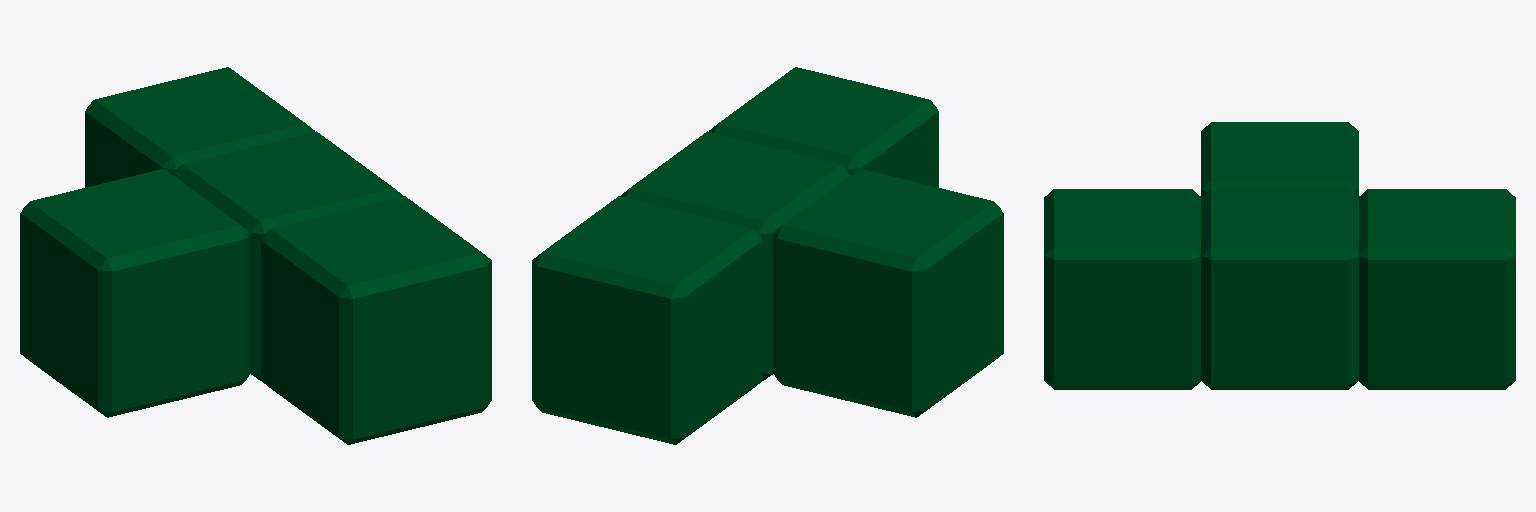
--- Facts derived from the render (not from the file) ---
Views: 3 orthographic renders of the robot side by side, from view 1: azimuth 30°, elevation 25°; view 2: azimuth 150°, elevation 25°; view 3: azimuth 270°, elevation 25°.
Robot: obj_3 — 1 links, 0 joints (none); root link obj_3_link; default pose: every joint at zero.
Links seen in each view (by area): view 1: obj_3_link; view 2: obj_3_link; view 3: obj_3_link.
Link boxes in pixels (x1=…): obj_3_link: x1=20, y1=67, x2=491, y2=444; obj_3_link: x1=532, y1=67, x2=1003, y2=444; obj_3_link: x1=1044, y1=122, x2=1515, y2=389.
Bounding box of the posed robot: 0.25 × 0.375 × 0.125 m (x, y, z).
Meshes: 1 distinct files referenced, 1 mesh visuals loaded (1 OBJ).

The robot description file, URDF, robot "obj_3":
<robot name="obj_3" version="1.0">
  <link name="obj_3_link">
    <collision name="obj_3-collision.001">
      <origin rpy="1.57080 0.00000 -0.00000" xyz="-0.28590 0.38891 0.06436"/>
      <geometry>
        <mesh filename="../meshes/obj/obj_3-collision.001.obj" scale="1.00000 1.00000 1.00000"/>
      </geometry>
    </collision>
    <collision name="obj_3-collision.002">
      <origin rpy="-0.00000 -1.57080 0.00000" xyz="-0.34840 0.45141 0.06436"/>
      <geometry>
        <mesh filename="../meshes/obj/obj_3-collision.002.obj" scale="1.00000 1.00000 1.00000"/>
      </geometry>
    </collision>
    <collision name="obj_3-collision.003">
      <origin rpy="1.57080 0.00000 3.14159" xyz="-0.28590 0.51391 0.06436"/>
      <geometry>
        <mesh filename="../meshes/obj/obj_3-collision.003.obj" scale="1.00000 1.00000 1.00000"/>
      </geometry>
    </collision>
    <collision name="obj_3-collision.004">
      <origin rpy="0.00000 0.00000 1.57080" xyz="-0.28590 0.45141 0.12686"/>
      <geometry>
        <mesh filename="../meshes/obj/obj_3-collision.004.obj" scale="1.00000 1.00000 1.00000"/>
      </geometry>
    </collision>
    <collision name="obj_3-collision.005">
      <origin rpy="-3.14159 0.00000 -1.57080" xyz="-0.28590 0.45141 0.00186"/>
      <geometry>
        <mesh filename="../meshes/obj/obj_3-collision.005.obj" scale="1.00000 1.00000 1.00000"/>
      </geometry>
    </collision>
    <collision name="obj_3-collision.006">
      <origin rpy="2.35619 0.00000 -0.00000" xyz="-0.28590 0.39266 0.00561"/>
      <geometry>
        <mesh filename="../meshes/obj/obj_3-collision.006.obj" scale="1.00000 1.00000 1.00000"/>
      </geometry>
    </collision>
    <collision name="obj_3-collision.007">
      <origin rpy="3.14159 -0.78540 3.14159" xyz="-0.34465 0.45141 0.00561"/>
      <geometry>
        <mesh filename="../meshes/obj/obj_3-collision.007.obj" scale="1.00000 1.00000 1.00000"/>
      </geometry>
    </collision>
    <collision name="obj_3-collision.008">
      <origin rpy="2.35619 -0.00000 3.14159" xyz="-0.28590 0.51016 0.00561"/>
      <geometry>
        <mesh filename="../meshes/obj/obj_3-collision.008.obj" scale="1.00000 1.00000 1.00000"/>
      </geometry>
    </collision>
    <collision name="obj_3-collision.009">
      <origin rpy="1.57080 0.00000 -2.35619" xyz="-0.34465 0.51016 0.06436"/>
      <geometry>
        <mesh filename="../meshes/obj/obj_3-collision.009.obj" scale="1.00000 1.00000 1.00000"/>
      </geometry>
    </collision>
    <collision name="obj_3-collision.010">
      <origin rpy="1.57080 -0.00000 -0.78540" xyz="-0.34465 0.39266 0.06436"/>
      <geometry>
        <mesh filename="../meshes/obj/obj_3-collision.010.obj" scale="1.00000 1.00000 1.00000"/>
      </geometry>
    </collision>
    <collision name="obj_3-collision.011">
      <origin rpy="1.57080 0.00000 0.78540" xyz="-0.22715 0.39266 0.06436"/>
      <geometry>
        <mesh filename="../meshes/obj/obj_3-collision.011.obj" scale="1.00000 1.00000 1.00000"/>
      </geometry>
    </collision>
    <collision name="obj_3-collision.012">
      <origin rpy="1.57080 -0.00000 2.35619" xyz="-0.22715 0.51016 0.06436"/>
      <geometry>
        <mesh filename="../meshes/obj/obj_3-collision.012.obj" scale="1.00000 1.00000 1.00000"/>
      </geometry>
    </collision>
    <collision name="obj_3-collision.013">
      <origin rpy="0.78540 -0.00000 3.14159" xyz="-0.28590 0.51016 0.12311"/>
      <geometry>
        <mesh filename="../meshes/obj/obj_3-collision.013.obj" scale="1.00000 1.00000 1.00000"/>
      </geometry>
    </collision>
    <collision name="obj_3-collision.014">
      <origin rpy="-0.00000 -0.78540 -0.00000" xyz="-0.34465 0.45141 0.12311"/>
      <geometry>
        <mesh filename="../meshes/obj/obj_3-collision.014.obj" scale="1.00000 1.00000 1.00000"/>
      </geometry>
    </collision>
    <collision name="obj_3-collision.015">
      <origin rpy="0.78540 -0.00000 -0.00000" xyz="-0.28590 0.39266 0.12311"/>
      <geometry>
        <mesh filename="../meshes/obj/obj_3-collision.015.obj" scale="1.00000 1.00000 1.00000"/>
      </geometry>
    </collision>
    <collision name="obj_3-collision.016">
      <origin rpy="-0.00000 -0.78540 3.14159" xyz="-0.22715 0.45141 0.12311"/>
      <geometry>
        <mesh filename="../meshes/obj/obj_3-collision.016.obj" scale="1.00000 1.00000 1.00000"/>
      </geometry>
    </collision>
    <collision name="obj_3-collision.017">
      <origin rpy="-3.14159 -0.78540 -0.00000" xyz="-0.22715 0.45141 0.00561"/>
      <geometry>
        <mesh filename="../meshes/obj/obj_3-collision.017.obj" scale="1.00000 1.00000 1.00000"/>
      </geometry>
    </collision>
    <collision name="obj_3-collision.018">
      <origin rpy="-0.00000 -1.57080 0.00000" xyz="-0.22340 0.32641 0.06436"/>
      <geometry>
        <mesh filename="../meshes/obj/obj_3-collision.018.obj" scale="1.00000 1.00000 1.00000"/>
      </geometry>
    </collision>
    <collision name="obj_3-collision.019">
      <origin rpy="1.57080 0.00000 -2.35619" xyz="-0.21965 0.38516 0.06436"/>
      <geometry>
        <mesh filename="../meshes/obj/obj_3-collision.019.obj" scale="1.00000 1.00000 1.00000"/>
      </geometry>
    </collision>
    <collision name="obj_3-collision.020">
      <origin rpy="1.57080 -0.00000 -0.78540" xyz="-0.21965 0.26766 0.06436"/>
      <geometry>
        <mesh filename="../meshes/obj/obj_3-collision.020.obj" scale="1.00000 1.00000 1.00000"/>
      </geometry>
    </collision>
    <collision name="obj_3-collision.021">
      <origin rpy="3.14159 -0.78540 3.14159" xyz="-0.21965 0.32641 0.00561"/>
      <geometry>
        <mesh filename="../meshes/obj/obj_3-collision.021.obj" scale="1.00000 1.00000 1.00000"/>
      </geometry>
    </collision>
    <collision name="obj_3-collision.022">
      <origin rpy="-0.00000 -0.78540 -0.00000" xyz="-0.21965 0.32641 0.12311"/>
      <geometry>
        <mesh filename="../meshes/obj/obj_3-collision.022.obj" scale="1.00000 1.00000 1.00000"/>
      </geometry>
    </collision>
    <collision name="obj_3-collision.023">
      <origin rpy="0.78540 -0.00000 -0.00000" xyz="-0.16090 0.26766 0.12311"/>
      <geometry>
        <mesh filename="../meshes/obj/obj_3-collision.023.obj" scale="1.00000 1.00000 1.00000"/>
      </geometry>
    </collision>
    <collision name="obj_3-collision.024">
      <origin rpy="1.57080 -1.57080 0.00000" xyz="-0.16090 0.26391 0.06436"/>
      <geometry>
        <mesh filename="../meshes/obj/obj_3-collision.024.obj" scale="1.00000 1.00000 1.00000"/>
      </geometry>
    </collision>
    <collision name="obj_3-collision.025">
      <origin rpy="2.35619 0.00000 -0.00000" xyz="-0.16090 0.26766 0.00561"/>
      <geometry>
        <mesh filename="../meshes/obj/obj_3-collision.025.obj" scale="1.00000 1.00000 1.00000"/>
      </geometry>
    </collision>
    <collision name="obj_3-collision.026">
      <origin rpy="-1.57080 0.00000 -2.35619" xyz="-0.10215 0.26766 0.06436"/>
      <geometry>
        <mesh filename="../meshes/obj/obj_3-collision.026.obj" scale="1.00000 1.00000 1.00000"/>
      </geometry>
    </collision>
    <collision name="obj_3-collision.027">
      <origin rpy="-0.00000 -0.78540 3.14159" xyz="-0.10215 0.32641 0.12311"/>
      <geometry>
        <mesh filename="../meshes/obj/obj_3-collision.027.obj" scale="1.00000 1.00000 1.00000"/>
      </geometry>
    </collision>
    <collision name="obj_3-collision.028">
      <origin rpy="1.57080 0.00000 1.57080" xyz="-0.09840 0.32641 0.06436"/>
      <geometry>
        <mesh filename="../meshes/obj/obj_3-collision.028.obj" scale="1.00000 1.00000 1.00000"/>
      </geometry>
    </collision>
    <collision name="obj_3-collision.029">
      <origin rpy="-3.14159 -0.78540 -0.00000" xyz="-0.10215 0.32641 0.00561"/>
      <geometry>
        <mesh filename="../meshes/obj/obj_3-collision.029.obj" scale="1.00000 1.00000 1.00000"/>
      </geometry>
    </collision>
    <collision name="obj_3-collision.030">
      <origin rpy="-3.14159 0.00000 -1.57080" xyz="-0.16090 0.32641 0.00186"/>
      <geometry>
        <mesh filename="../meshes/obj/obj_3-collision.030.obj" scale="1.00000 1.00000 1.00000"/>
      </geometry>
    </collision>
    <collision name="obj_3-collision.031">
      <origin rpy="2.35619 -0.00000 3.14159" xyz="-0.16090 0.38516 0.00561"/>
      <geometry>
        <mesh filename="../meshes/obj/obj_3-collision.031.obj" scale="1.00000 1.00000 1.00000"/>
      </geometry>
    </collision>
    <collision name="obj_3-collision.032">
      <origin rpy="0.00000 0.00000 1.57080" xyz="-0.16090 0.32641 0.12686"/>
      <geometry>
        <mesh filename="../meshes/obj/obj_3-collision.032.obj" scale="1.00000 1.00000 1.00000"/>
      </geometry>
    </collision>
    <collision name="obj_3-collision.033">
      <origin rpy="0.78540 -0.00000 3.14159" xyz="-0.16090 0.38516 0.12311"/>
      <geometry>
        <mesh filename="../meshes/obj/obj_3-collision.033.obj" scale="1.00000 1.00000 1.00000"/>
      </geometry>
    </collision>
    <collision name="obj_3-collision.034">
      <origin rpy="-0.00000 -0.78540 -0.00000" xyz="-0.21965 0.45141 0.12311"/>
      <geometry>
        <mesh filename="../meshes/obj/obj_3-collision.034.obj" scale="1.00000 1.00000 1.00000"/>
      </geometry>
    </collision>
    <collision name="obj_3-collision.035">
      <origin rpy="0.78540 -0.00000 -0.00000" xyz="-0.16090 0.39266 0.12311"/>
      <geometry>
        <mesh filename="../meshes/obj/obj_3-collision.035.obj" scale="1.00000 1.00000 1.00000"/>
      </geometry>
    </collision>
    <collision name="obj_3-collision.036">
      <origin rpy="2.35619 1.57080 0.00000" xyz="-0.21965 0.39266 0.06436"/>
      <geometry>
        <mesh filename="../meshes/obj/obj_3-collision.036.obj" scale="1.00000 1.00000 1.00000"/>
      </geometry>
    </collision>
    <collision name="obj_3-collision.037">
      <origin rpy="0.00000 0.00000 -1.57080" xyz="-0.16090 0.45141 0.12686"/>
      <geometry>
        <mesh filename="../meshes/obj/obj_3-collision.037.obj" scale="1.00000 1.00000 1.00000"/>
      </geometry>
    </collision>
    <collision name="obj_3-collision.038">
      <origin rpy="-0.00000 -0.78540 3.14159" xyz="-0.10215 0.45141 0.12311"/>
      <geometry>
        <mesh filename="../meshes/obj/obj_3-collision.038.obj" scale="1.00000 1.00000 1.00000"/>
      </geometry>
    </collision>
    <collision name="obj_3-collision.039">
      <origin rpy="0.78540 -0.00000 3.14159" xyz="-0.16090 0.51016 0.12311"/>
      <geometry>
        <mesh filename="../meshes/obj/obj_3-collision.039.obj" scale="1.00000 1.00000 1.00000"/>
      </geometry>
    </collision>
    <collision name="obj_3-collision.040">
      <origin rpy="1.57080 0.00000 -2.35619" xyz="-0.21965 0.51016 0.06436"/>
      <geometry>
        <mesh filename="../meshes/obj/obj_3-collision.040.obj" scale="1.00000 1.00000 1.00000"/>
      </geometry>
    </collision>
    <collision name="obj_3-collision.041">
      <origin rpy="3.14159 -1.57080 0.00000" xyz="-0.09840 0.45141 0.06436"/>
      <geometry>
        <mesh filename="../meshes/obj/obj_3-collision.041.obj" scale="1.00000 1.00000 1.00000"/>
      </geometry>
    </collision>
    <collision name="obj_3-collision.042">
      <origin rpy="1.57080 0.00000 0.78540" xyz="-0.10215 0.39266 0.06436"/>
      <geometry>
        <mesh filename="../meshes/obj/obj_3-collision.042.obj" scale="1.00000 1.00000 1.00000"/>
      </geometry>
    </collision>
    <collision name="obj_3-collision.043">
      <origin rpy="-1.57080 -0.00000 -0.78540" xyz="-0.10215 0.51016 0.06436"/>
      <geometry>
        <mesh filename="../meshes/obj/obj_3-collision.043.obj" scale="1.00000 1.00000 1.00000"/>
      </geometry>
    </collision>
    <collision name="obj_3-collision.044">
      <origin rpy="-3.14159 -0.78540 -0.00000" xyz="-0.10215 0.45141 0.00561"/>
      <geometry>
        <mesh filename="../meshes/obj/obj_3-collision.044.obj" scale="1.00000 1.00000 1.00000"/>
      </geometry>
    </collision>
    <collision name="obj_3-collision.045">
      <origin rpy="-3.14159 0.00000 -1.57080" xyz="-0.16090 0.45141 0.00186"/>
      <geometry>
        <mesh filename="../meshes/obj/obj_3-collision.045.obj" scale="1.00000 1.00000 1.00000"/>
      </geometry>
    </collision>
    <collision name="obj_3-collision.046">
      <origin rpy="-3.14159 0.78540 1.57080" xyz="-0.16090 0.39266 0.00561"/>
      <geometry>
        <mesh filename="../meshes/obj/obj_3-collision.046.obj" scale="1.00000 1.00000 1.00000"/>
      </geometry>
    </collision>
    <collision name="obj_3-collision.047">
      <origin rpy="2.35619 -0.00000 3.14159" xyz="-0.16090 0.51016 0.00561"/>
      <geometry>
        <mesh filename="../meshes/obj/obj_3-collision.047.obj" scale="1.00000 1.00000 1.00000"/>
      </geometry>
    </collision>
    <collision name="obj_3-collision.048">
      <origin rpy="3.14159 -0.78540 3.14159" xyz="-0.21965 0.45141 0.00561"/>
      <geometry>
        <mesh filename="../meshes/obj/obj_3-collision.048.obj" scale="1.00000 1.00000 1.00000"/>
      </geometry>
    </collision>
    <collision name="obj_3-collision.049">
      <origin rpy="1.57080 -0.00000 2.35619" xyz="-0.10215 0.38516 0.06436"/>
      <geometry>
        <mesh filename="../meshes/obj/obj_3-collision.049.obj" scale="1.00000 1.00000 1.00000"/>
      </geometry>
    </collision>
    <collision name="obj_3-collision.050">
      <origin rpy="0.00000 0.00000 1.57080" xyz="-0.16090 0.57641 0.12686"/>
      <geometry>
        <mesh filename="../meshes/obj/obj_3-collision.050.obj" scale="1.00000 1.00000 1.00000"/>
      </geometry>
    </collision>
    <collision name="obj_3-collision.051">
      <origin rpy="0.78540 -0.00000 -0.00000" xyz="-0.16090 0.51766 0.12311"/>
      <geometry>
        <mesh filename="../meshes/obj/obj_3-collision.051.obj" scale="1.00000 1.00000 1.00000"/>
      </geometry>
    </collision>
    <collision name="obj_3-collision.052">
      <origin rpy="-0.00000 -0.78540 3.14159" xyz="-0.10215 0.57641 0.12311"/>
      <geometry>
        <mesh filename="../meshes/obj/obj_3-collision.052.obj" scale="1.00000 1.00000 1.00000"/>
      </geometry>
    </collision>
    <collision name="obj_3-collision.053">
      <origin rpy="0.78540 -0.00000 3.14159" xyz="-0.16090 0.63516 0.12311"/>
      <geometry>
        <mesh filename="../meshes/obj/obj_3-collision.053.obj" scale="1.00000 1.00000 1.00000"/>
      </geometry>
    </collision>
    <collision name="obj_3-collision.054">
      <origin rpy="-0.00000 -0.78540 -0.00000" xyz="-0.21965 0.57641 0.12311"/>
      <geometry>
        <mesh filename="../meshes/obj/obj_3-collision.054.obj" scale="1.00000 1.00000 1.00000"/>
      </geometry>
    </collision>
    <collision name="obj_3-collision.055">
      <origin rpy="-0.00000 -1.57080 0.00000" xyz="-0.22340 0.57641 0.06436"/>
      <geometry>
        <mesh filename="../meshes/obj/obj_3-collision.055.obj" scale="1.00000 1.00000 1.00000"/>
      </geometry>
    </collision>
    <collision name="obj_3-collision.056">
      <origin rpy="1.57080 -0.00000 -0.78540" xyz="-0.21965 0.51766 0.06436"/>
      <geometry>
        <mesh filename="../meshes/obj/obj_3-collision.056.obj" scale="1.00000 1.00000 1.00000"/>
      </geometry>
    </collision>
    <collision name="obj_3-collision.057">
      <origin rpy="1.57080 0.00000 -2.35619" xyz="-0.21965 0.63516 0.06436"/>
      <geometry>
        <mesh filename="../meshes/obj/obj_3-collision.057.obj" scale="1.00000 1.00000 1.00000"/>
      </geometry>
    </collision>
    <collision name="obj_3-collision.058">
      <origin rpy="1.57080 0.00000 3.14159" xyz="-0.16090 0.63891 0.06436"/>
      <geometry>
        <mesh filename="../meshes/obj/obj_3-collision.058.obj" scale="1.00000 1.00000 1.00000"/>
      </geometry>
    </collision>
    <collision name="obj_3-collision.059">
      <origin rpy="1.57080 -0.00000 2.35619" xyz="-0.10215 0.63516 0.06436"/>
      <geometry>
        <mesh filename="../meshes/obj/obj_3-collision.059.obj" scale="1.00000 1.00000 1.00000"/>
      </geometry>
    </collision>
    <collision name="obj_3-collision.060">
      <origin rpy="3.14159 -1.57080 0.00000" xyz="-0.09840 0.57641 0.06436"/>
      <geometry>
        <mesh filename="../meshes/obj/obj_3-collision.060.obj" scale="1.00000 1.00000 1.00000"/>
      </geometry>
    </collision>
    <collision name="obj_3-collision.061">
      <origin rpy="0.78540 1.57080 0.00000" xyz="-0.10215 0.51766 0.06436"/>
      <geometry>
        <mesh filename="../meshes/obj/obj_3-collision.061.obj" scale="1.00000 1.00000 1.00000"/>
      </geometry>
    </collision>
    <collision name="obj_3-collision.062">
      <origin rpy="-3.14159 -0.78540 -0.00000" xyz="-0.10215 0.57641 0.00561"/>
      <geometry>
        <mesh filename="../meshes/obj/obj_3-collision.062.obj" scale="1.00000 1.00000 1.00000"/>
      </geometry>
    </collision>
    <collision name="obj_3-collision.063">
      <origin rpy="2.35619 0.00000 -0.00000" xyz="-0.16090 0.51766 0.00561"/>
      <geometry>
        <mesh filename="../meshes/obj/obj_3-collision.063.obj" scale="1.00000 1.00000 1.00000"/>
      </geometry>
    </collision>
    <collision name="obj_3-collision.064">
      <origin rpy="3.14159 -0.78540 3.14159" xyz="-0.21965 0.57641 0.00561"/>
      <geometry>
        <mesh filename="../meshes/obj/obj_3-collision.064.obj" scale="1.00000 1.00000 1.00000"/>
      </geometry>
    </collision>
    <collision name="obj_3-collision.065">
      <origin rpy="2.35619 -0.00000 3.14159" xyz="-0.16090 0.63516 0.00561"/>
      <geometry>
        <mesh filename="../meshes/obj/obj_3-collision.065.obj" scale="1.00000 1.00000 1.00000"/>
      </geometry>
    </collision>
    <collision name="obj_3-collision.066">
      <origin rpy="-3.14159 0.00000 -1.57080" xyz="-0.16090 0.57641 0.00186"/>
      <geometry>
        <mesh filename="../meshes/obj/obj_3-collision.066.obj" scale="1.00000 1.00000 1.00000"/>
      </geometry>
    </collision>
    <collision name="obj_3-collision.067">
      <origin rpy="0.00000 0.00000 1.57080" xyz="-0.19364 0.45141 0.06436"/>
      <geometry>
        <mesh filename="../meshes/obj/obj_3-collision.067.obj" scale="0.00500 0.00500 0.00500"/>
      </geometry>
    </collision>
    <collision name="obj_3-collision.068">
      <origin rpy="0.00000 0.00000 1.57080" xyz="-0.19364 0.45141 0.06436"/>
      <geometry>
        <mesh filename="../meshes/obj/obj_3-collision.068.obj" scale="0.00500 0.00500 0.00500"/>
      </geometry>
    </collision>
    <collision name="obj_3-collision.069">
      <origin rpy="0.00000 0.00000 1.57080" xyz="-0.19364 0.45141 0.06436"/>
      <geometry>
        <mesh filename="../meshes/obj/obj_3-collision.069.obj" scale="0.00500 0.00500 0.00500"/>
      </geometry>
    </collision>
    <collision name="obj_3-collision.070">
      <origin rpy="0.00000 0.00000 1.57080" xyz="-0.19364 0.45141 0.06436"/>
      <geometry>
        <mesh filename="../meshes/obj/obj_3-collision.070.obj" scale="0.00500 0.00500 0.00500"/>
      </geometry>
    </collision>
    <collision name="obj_3-collision.071">
      <origin rpy="0.00000 0.00000 1.57080" xyz="-0.19364 0.45141 0.06436"/>
      <geometry>
        <mesh filename="../meshes/obj/obj_3-collision.071.obj" scale="0.00500 0.00500 0.00500"/>
      </geometry>
    </collision>
    <collision name="obj_3-collision.072">
      <origin rpy="0.00000 0.00000 1.57080" xyz="-0.19364 0.45141 0.06436"/>
      <geometry>
        <mesh filename="../meshes/obj/obj_3-collision.072.obj" scale="0.00500 0.00500 0.00500"/>
      </geometry>
    </collision>
    <collision name="obj_3-collision.073">
      <origin rpy="0.00000 0.00000 1.57080" xyz="-0.19364 0.45141 0.06436"/>
      <geometry>
        <mesh filename="../meshes/obj/obj_3-collision.073.obj" scale="0.00500 0.00500 0.00500"/>
      </geometry>
    </collision>
    <collision name="obj_3-collision.074">
      <origin rpy="0.00000 0.00000 1.57080" xyz="-0.19364 0.45141 0.06436"/>
      <geometry>
        <mesh filename="../meshes/obj/obj_3-collision.074.obj" scale="0.00500 0.00500 0.00500"/>
      </geometry>
    </collision>
    <collision name="obj_3-collision.075">
      <origin rpy="0.00000 0.00000 1.57080" xyz="-0.19364 0.45141 0.06436"/>
      <geometry>
        <mesh filename="../meshes/obj/obj_3-collision.075.obj" scale="0.00500 0.00500 0.00500"/>
      </geometry>
    </collision>
    <collision name="obj_3-collision.076">
      <origin rpy="0.00000 0.00000 1.57080" xyz="-0.19364 0.45141 0.06436"/>
      <geometry>
        <mesh filename="../meshes/obj/obj_3-collision.076.obj" scale="0.00500 0.00500 0.00500"/>
      </geometry>
    </collision>
    <collision name="obj_3-collision.077">
      <origin rpy="0.00000 0.00000 1.57080" xyz="-0.19364 0.45141 0.06436"/>
      <geometry>
        <mesh filename="../meshes/obj/obj_3-collision.077.obj" scale="0.00500 0.00500 0.00500"/>
      </geometry>
    </collision>
    <collision name="obj_3-collision.078">
      <origin rpy="0.00000 0.00000 1.57080" xyz="-0.19364 0.45141 0.06436"/>
      <geometry>
        <mesh filename="../meshes/obj/obj_3-collision.078.obj" scale="0.00500 0.00500 0.00500"/>
      </geometry>
    </collision>
    <collision name="obj_3-collision.079">
      <origin rpy="0.00000 0.00000 1.57080" xyz="-0.19364 0.45141 0.06436"/>
      <geometry>
        <mesh filename="../meshes/obj/obj_3-collision.079.obj" scale="0.00500 0.00500 0.00500"/>
      </geometry>
    </collision>
    <collision name="obj_3-collision.080">
      <origin rpy="0.00000 0.00000 1.57080" xyz="-0.19364 0.45141 0.06436"/>
      <geometry>
        <mesh filename="../meshes/obj/obj_3-collision.080.obj" scale="0.00500 0.00500 0.00500"/>
      </geometry>
    </collision>
    <collision name="obj_3-collision.081">
      <origin rpy="0.00000 0.00000 1.57080" xyz="-0.19364 0.45141 0.06436"/>
      <geometry>
        <mesh filename="../meshes/obj/obj_3-collision.081.obj" scale="0.00500 0.00500 0.00500"/>
      </geometry>
    </collision>
    <collision name="obj_3-collision.082">
      <origin rpy="0.00000 0.00000 1.57080" xyz="-0.19364 0.45141 0.06436"/>
      <geometry>
        <mesh filename="../meshes/obj/obj_3-collision.082.obj" scale="0.00500 0.00500 0.00500"/>
      </geometry>
    </collision>
    <collision name="obj_3-collision.083">
      <origin rpy="0.00000 0.00000 1.57080" xyz="-0.19364 0.45141 0.06436"/>
      <geometry>
        <mesh filename="../meshes/obj/obj_3-collision.083.obj" scale="0.00500 0.00500 0.00500"/>
      </geometry>
    </collision>
    <collision name="obj_3-collision.084">
      <origin rpy="0.00000 0.00000 1.57080" xyz="-0.19364 0.45141 0.06436"/>
      <geometry>
        <mesh filename="../meshes/obj/obj_3-collision.084.obj" scale="0.00500 0.00500 0.00500"/>
      </geometry>
    </collision>
    <collision name="obj_3-collision.085">
      <origin rpy="0.00000 0.00000 1.57080" xyz="-0.19364 0.45141 0.06436"/>
      <geometry>
        <mesh filename="../meshes/obj/obj_3-collision.085.obj" scale="0.00500 0.00500 0.00500"/>
      </geometry>
    </collision>
    <collision name="obj_3-collision.086">
      <origin rpy="0.00000 0.00000 1.57080" xyz="-0.19364 0.45141 0.06436"/>
      <geometry>
        <mesh filename="../meshes/obj/obj_3-collision.086.obj" scale="0.00500 0.00500 0.00500"/>
      </geometry>
    </collision>
    <collision name="obj_3-collision.087">
      <origin rpy="0.00000 0.00000 1.57080" xyz="-0.19364 0.45141 0.06436"/>
      <geometry>
        <mesh filename="../meshes/obj/obj_3-collision.087.obj" scale="0.00500 0.00500 0.00500"/>
      </geometry>
    </collision>
    <collision name="obj_3-collision.088">
      <origin rpy="0.00000 0.00000 1.57080" xyz="-0.19364 0.45141 0.06436"/>
      <geometry>
        <mesh filename="../meshes/obj/obj_3-collision.088.obj" scale="0.00500 0.00500 0.00500"/>
      </geometry>
    </collision>
    <collision name="obj_3-collision.089">
      <origin rpy="0.00000 0.00000 1.57080" xyz="-0.19364 0.45141 0.06436"/>
      <geometry>
        <mesh filename="../meshes/obj/obj_3-collision.089.obj" scale="0.00500 0.00500 0.00500"/>
      </geometry>
    </collision>
    <collision name="obj_3-collision.090">
      <origin rpy="0.00000 0.00000 1.57080" xyz="-0.19364 0.45141 0.06436"/>
      <geometry>
        <mesh filename="../meshes/obj/obj_3-collision.090.obj" scale="0.00500 0.00500 0.00500"/>
      </geometry>
    </collision>
    <collision name="obj_3-collision.091">
      <origin rpy="0.00000 0.00000 1.57080" xyz="-0.19364 0.45141 0.06436"/>
      <geometry>
        <mesh filename="../meshes/obj/obj_3-collision.091.obj" scale="0.00500 0.00500 0.00500"/>
      </geometry>
    </collision>
    <collision name="obj_3-collision.092">
      <origin rpy="0.00000 0.00000 1.57080" xyz="-0.19364 0.45141 0.06436"/>
      <geometry>
        <mesh filename="../meshes/obj/obj_3-collision.092.obj" scale="0.00500 0.00500 0.00500"/>
      </geometry>
    </collision>
    <collision name="obj_3-collision.093">
      <origin rpy="0.00000 0.00000 1.57080" xyz="-0.19364 0.45141 0.06436"/>
      <geometry>
        <mesh filename="../meshes/obj/obj_3-collision.093.obj" scale="0.00500 0.00500 0.00500"/>
      </geometry>
    </collision>
    <collision name="obj_3-collision.094">
      <origin rpy="0.00000 0.00000 1.57080" xyz="-0.19364 0.45141 0.06436"/>
      <geometry>
        <mesh filename="../meshes/obj/obj_3-collision.094.obj" scale="0.00500 0.00500 0.00500"/>
      </geometry>
    </collision>
    <collision name="obj_3-collision.095">
      <origin rpy="0.00000 0.00000 1.57080" xyz="-0.19364 0.45141 0.06436"/>
      <geometry>
        <mesh filename="../meshes/obj/obj_3-collision.095.obj" scale="0.00500 0.00500 0.00500"/>
      </geometry>
    </collision>
    <collision name="obj_3-collision.096">
      <origin rpy="0.00000 0.00000 1.57080" xyz="-0.19364 0.45141 0.06436"/>
      <geometry>
        <mesh filename="../meshes/obj/obj_3-collision.096.obj" scale="0.00500 0.00500 0.00500"/>
      </geometry>
    </collision>
    <collision name="obj_3-collision.097">
      <origin rpy="0.00000 0.00000 1.57080" xyz="-0.19364 0.45141 0.06436"/>
      <geometry>
        <mesh filename="../meshes/obj/obj_3-collision.097.obj" scale="0.00500 0.00500 0.00500"/>
      </geometry>
    </collision>
    <collision name="obj_3-collision.098">
      <origin rpy="0.00000 0.00000 1.57080" xyz="-0.19364 0.45141 0.06436"/>
      <geometry>
        <mesh filename="../meshes/obj/obj_3-collision.098.obj" scale="0.00500 0.00500 0.00500"/>
      </geometry>
    </collision>
    <inertial>
      <inertia ixx="0.00052" ixy="0.00000" ixz="-0.00000" iyy="0.00027" iyz="0.00000" izz="0.00066"/>
      <origin rpy="0.00000 0.00000 0.00000" xyz="-0.19215 0.45141 0.06436"/>
      <mass value="0.05000"/>
    </inertial>
    <visual name="obj_3">
      <material name="turnarrow_bluish_green"/>
      <origin rpy="0.00000 0.00000 1.57080" xyz="-0.19364 0.45141 0.06436"/>
      <geometry>
        <mesh filename="../meshes/obj/bt_cube3x3_bricks.002.obj" scale="0.00500 0.00500 0.00500"/>
      </geometry>
    </visual>
  </link>
  <material name="turnarrow_bluish_green">
    <color rgba="0.00000 0.34118 0.16863 1.00000"/>
  </material>
</robot>
